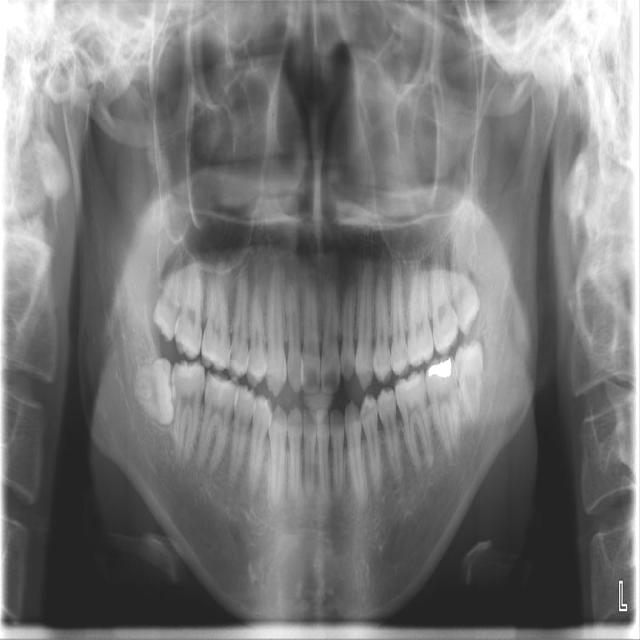Filling: (426, 358, 451, 378)
impacted tooth: (129, 359, 175, 424), (448, 230, 477, 331), (455, 343, 483, 418)
